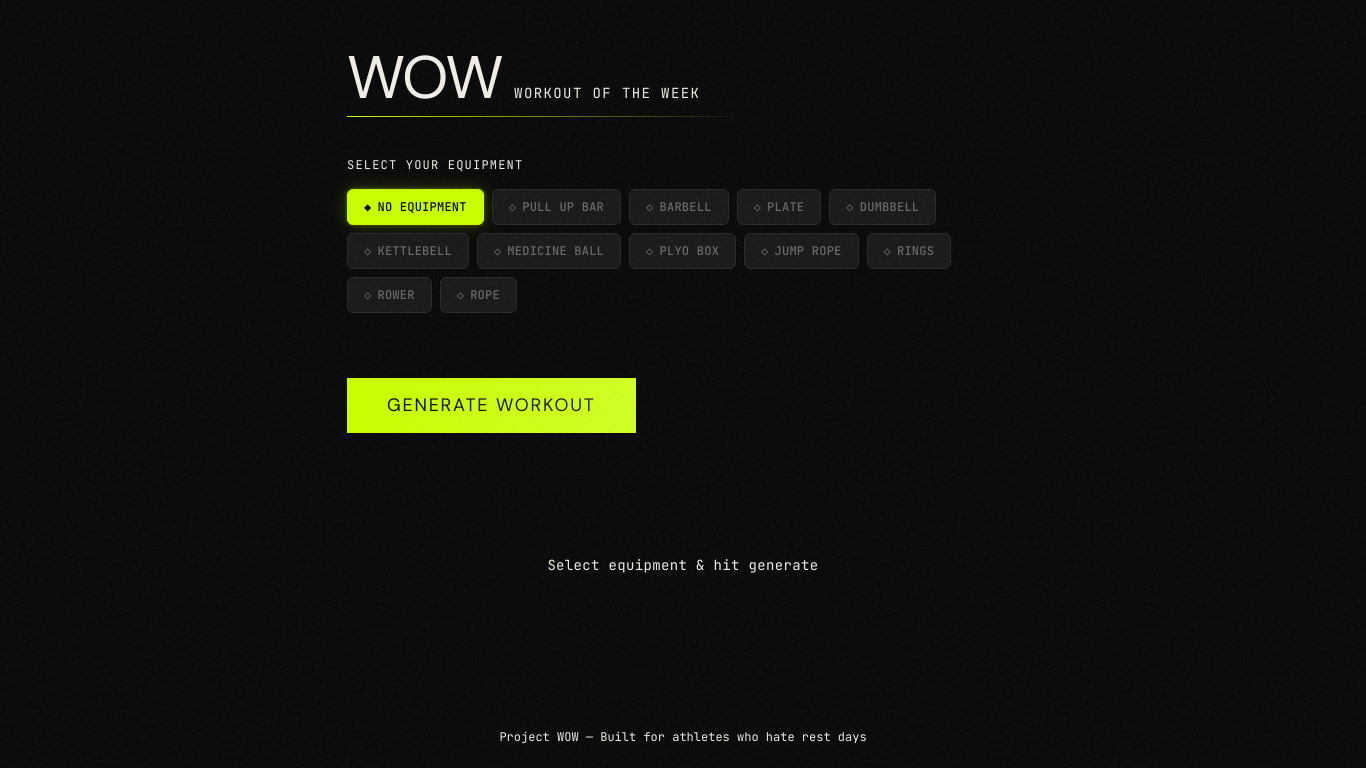
Test: Integration: Generate & Shuffle › renders a generated smart workout when Generate is clicked
Click the button "Generate Workout" at (491, 406), box [347,378,636,433]
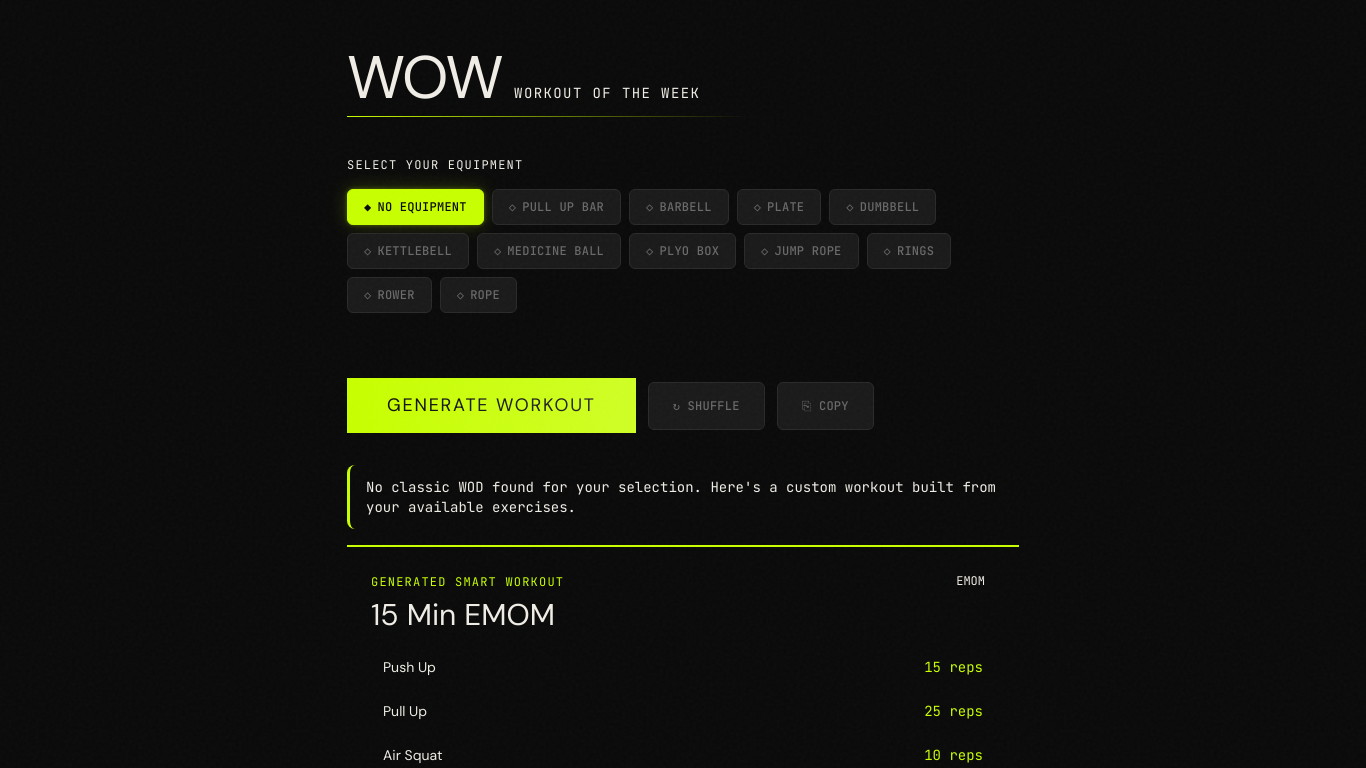
Check: the text "Generated Smart Workout" is shown, box [371,574,564,590]
Check: the heading "15 Min EMOM" is shown, box [371,597,564,633]
Check: the text "Push Up" is shown, box [383,657,436,677]
